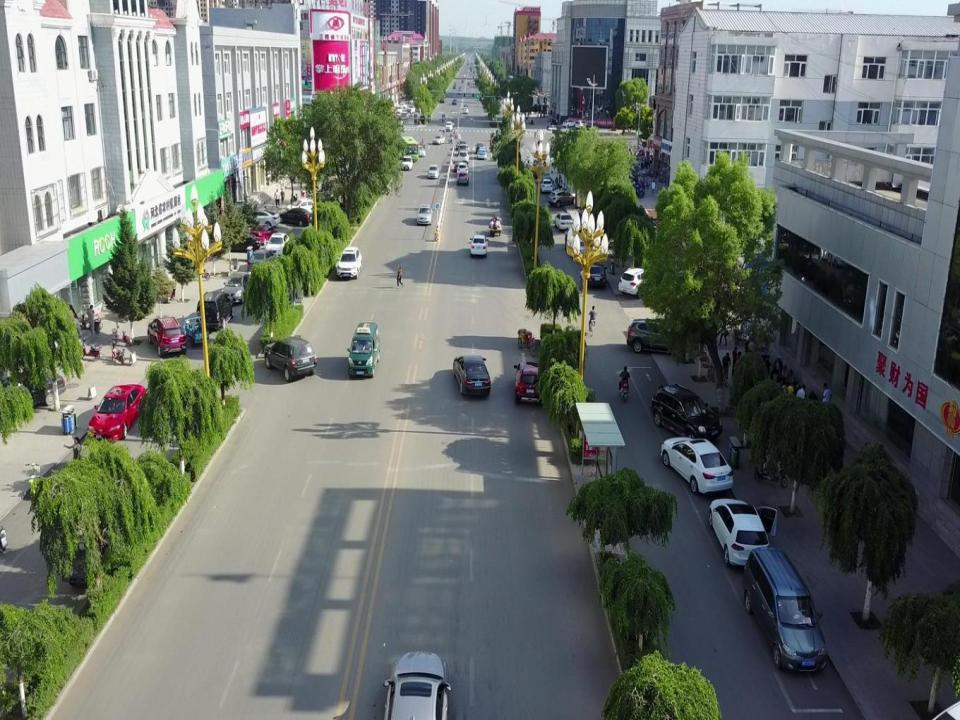bus: (398, 135, 418, 162)
car: (708, 498, 778, 567), (383, 650, 451, 720), (662, 435, 734, 494), (651, 384, 723, 440), (88, 383, 146, 441), (0, 370, 66, 411), (264, 333, 318, 381), (627, 317, 695, 354), (147, 316, 187, 357), (452, 354, 491, 396), (512, 360, 545, 404), (197, 291, 234, 329), (618, 266, 660, 298), (216, 230, 260, 252), (223, 271, 251, 303), (240, 208, 280, 229), (337, 246, 362, 278), (277, 207, 313, 228), (249, 249, 278, 273), (284, 198, 322, 216), (581, 262, 607, 286), (267, 232, 290, 257), (250, 224, 277, 245), (548, 189, 576, 207), (554, 212, 575, 231), (470, 234, 489, 255), (571, 239, 589, 260), (416, 203, 433, 225), (539, 178, 553, 193), (400, 156, 413, 172), (427, 165, 440, 179), (456, 170, 468, 185), (414, 143, 426, 158), (458, 150, 469, 164), (456, 140, 467, 154), (456, 164, 468, 176), (458, 144, 470, 156), (562, 119, 576, 128), (576, 120, 588, 130), (476, 141, 486, 153), (432, 135, 445, 144), (477, 148, 487, 159), (454, 161, 464, 172), (587, 123, 597, 130), (462, 107, 468, 114)
van: (743, 547, 827, 674), (348, 321, 380, 377)
